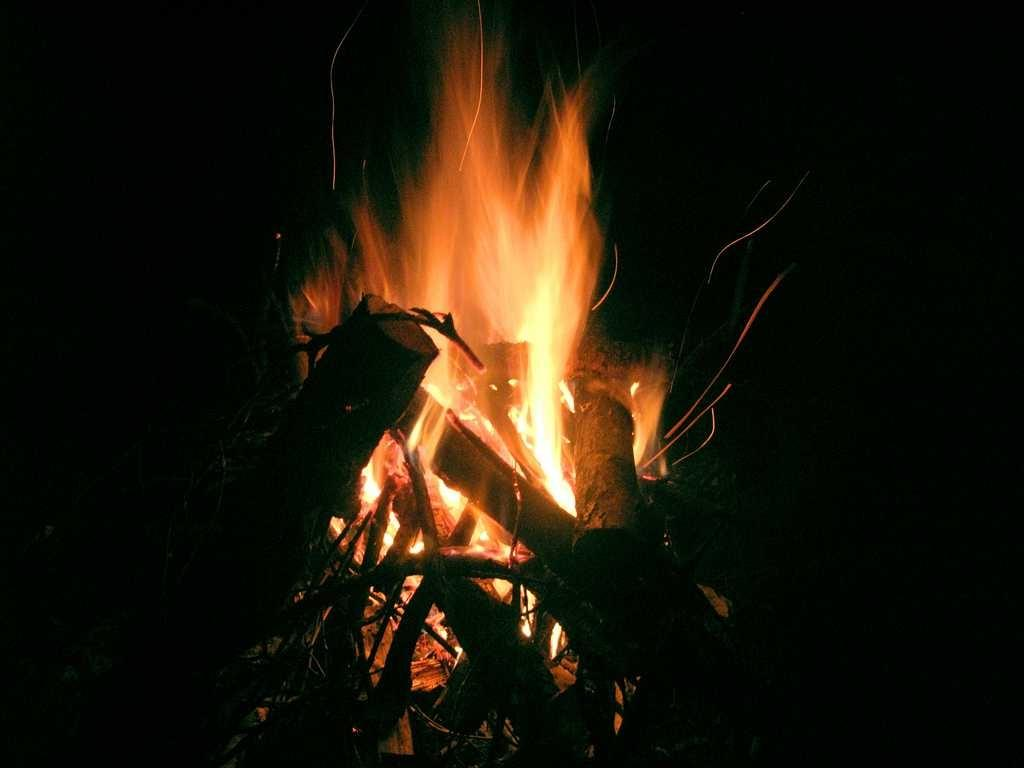fire: (446, 192, 592, 369)
